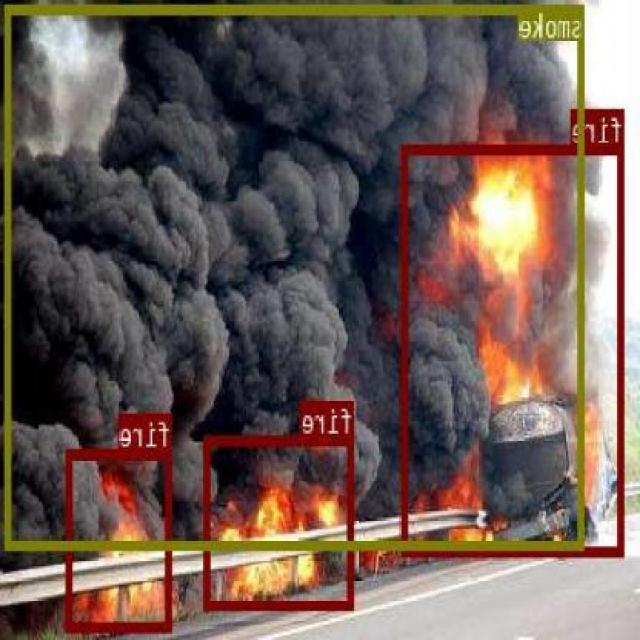Fire: (403, 143, 624, 554), (204, 433, 356, 607), (67, 449, 173, 631)
Smoke: (7, 3, 586, 548)
